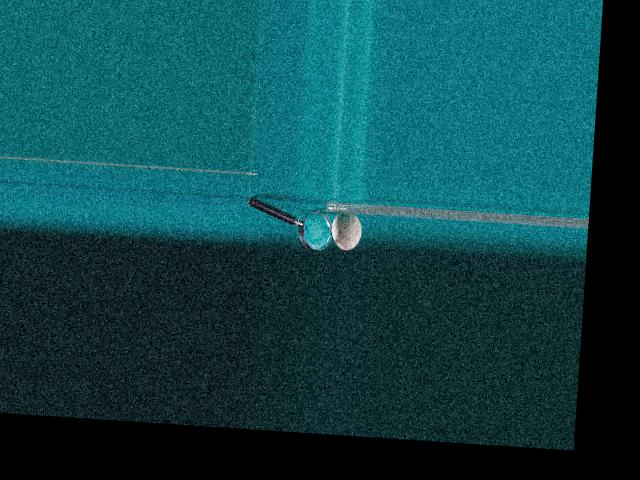egg: (330, 211, 363, 251)
